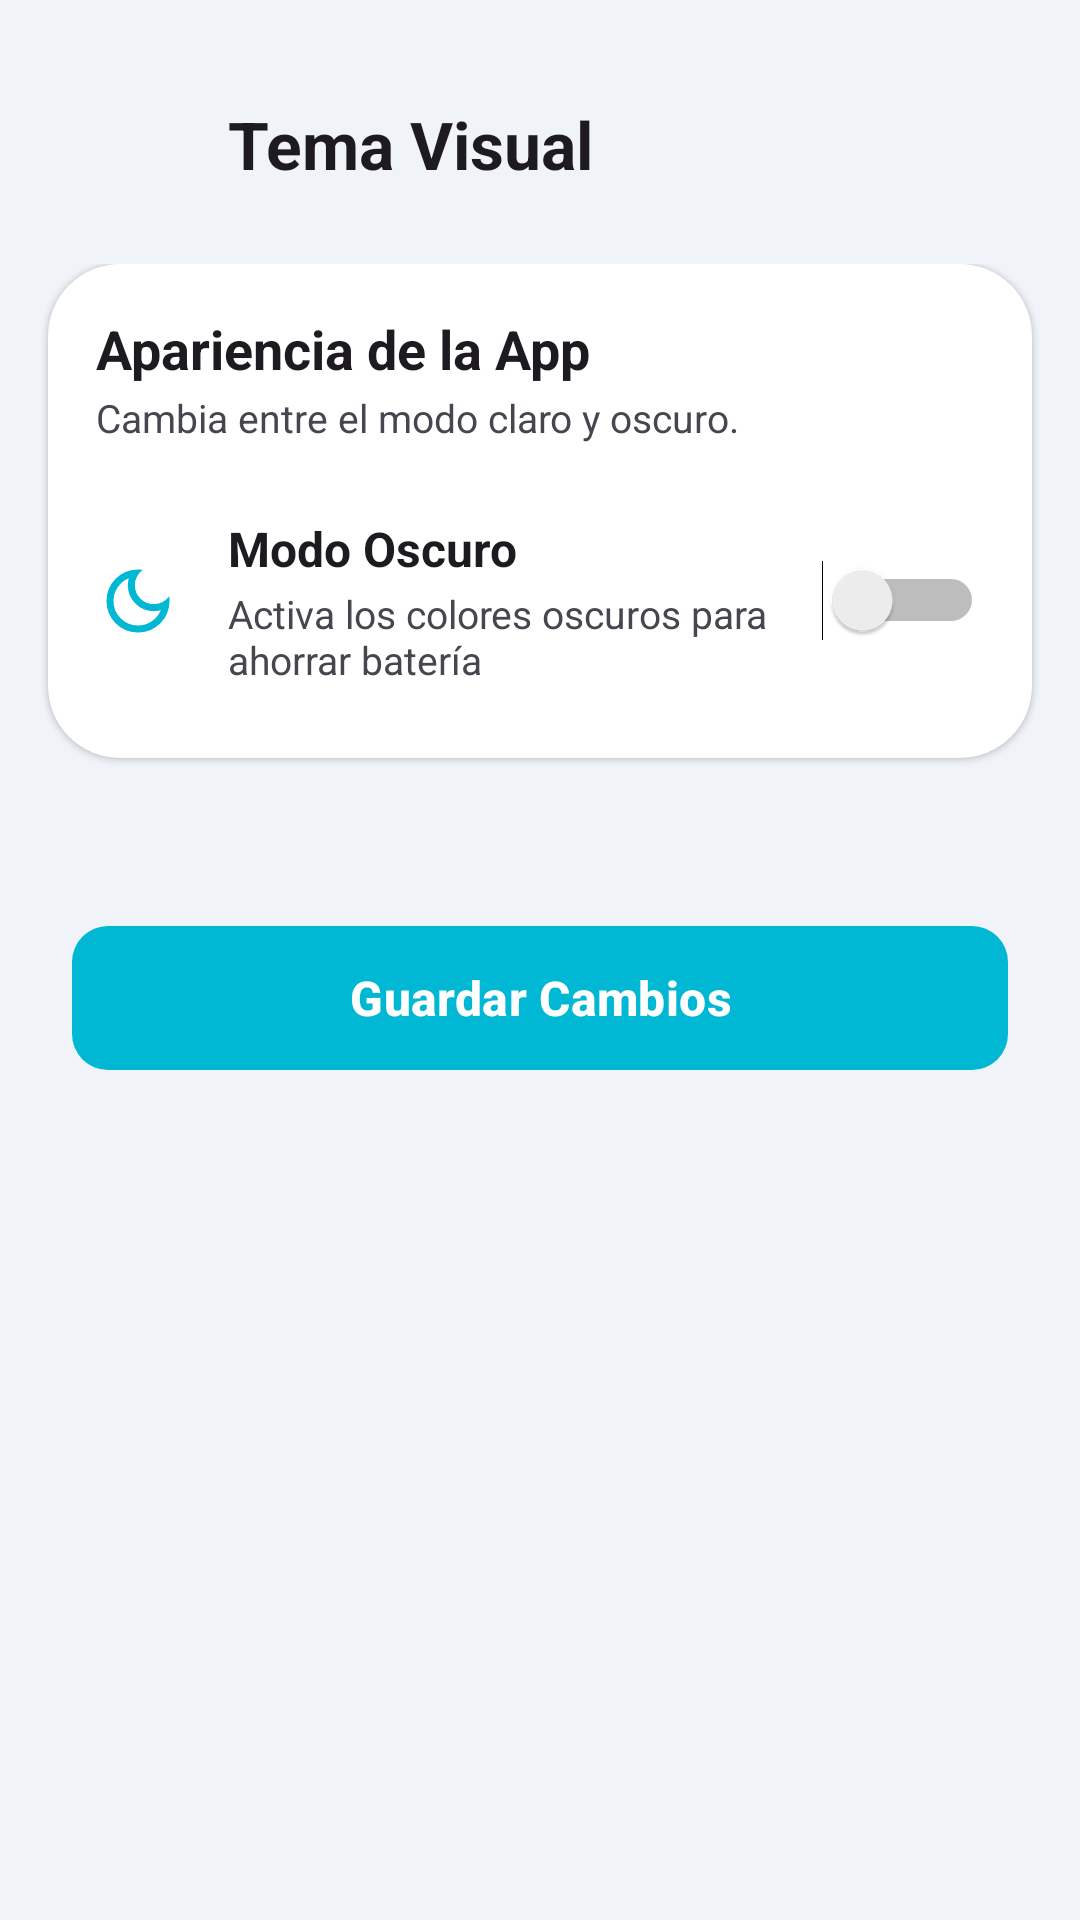

Where to tap for icons on this 1080*1920 app screen, as (x=x, y=y):
moon: (x=138, y=601)
